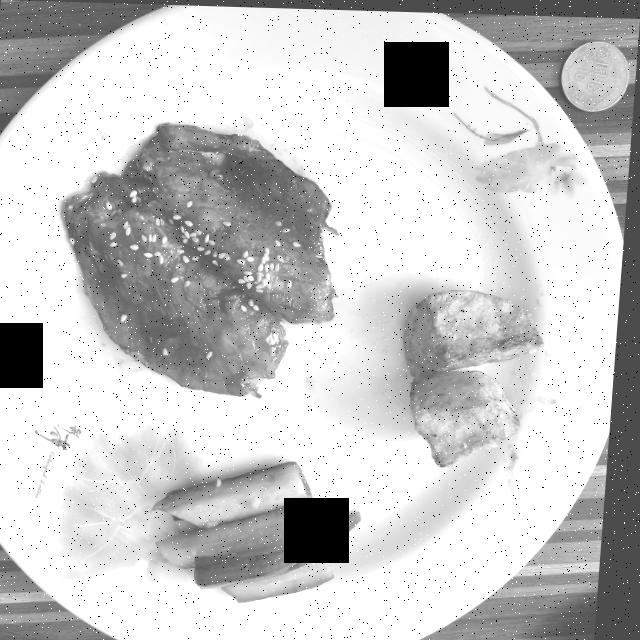Kabayaki sea bream fillet: (65, 125, 337, 394)
coin: (561, 38, 629, 108)
cucumber: (162, 461, 367, 601)
fried potato: (408, 287, 548, 465)
